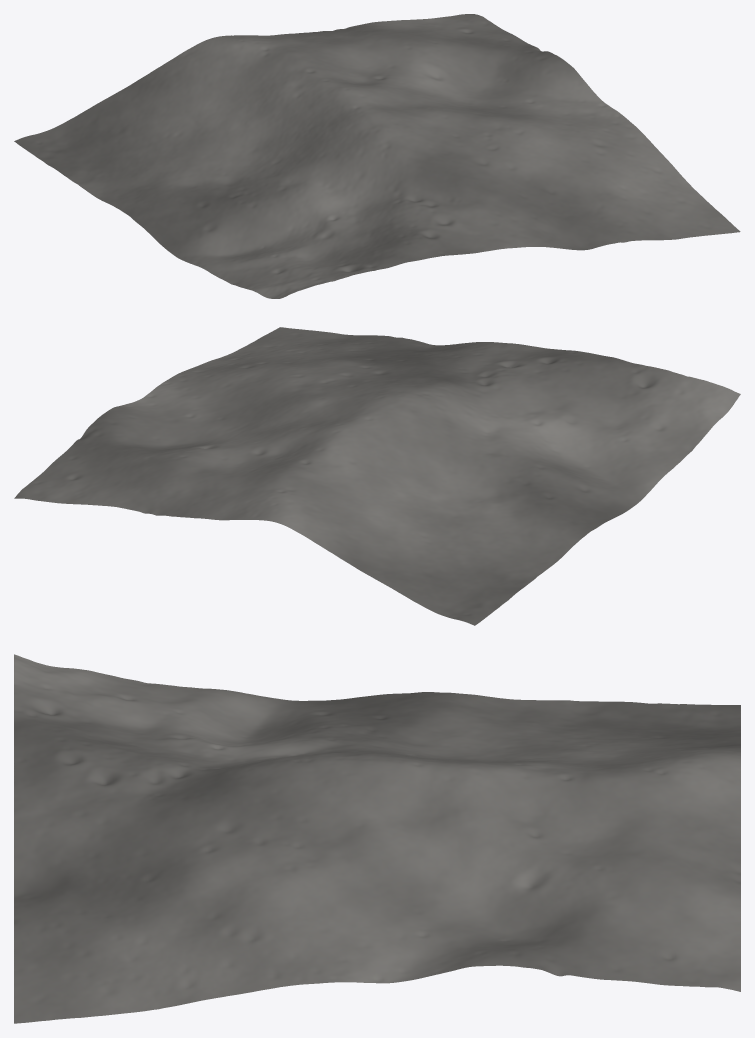
Rendered from de-gerlache-rim.glb.
The picture shows the model from 3 angles, top to bottom: view 1: azimuth 30°, elevation 25°; view 2: azimuth 150°, elevation 25°; view 3: azimuth 270°, elevation 25°; orthographic projection. The views are drawn at different scales.
Visible parts, largest first — view 1: Ground; view 2: Ground; view 3: Ground.
Boxes of the visible parts, box(x1,y1,x2,y2) form: Ground: box(14, 14, 740, 298); Ground: box(14, 327, 740, 625); Ground: box(14, 654, 740, 1023).
Size of the model in its own units: 20 by 3.15 by 20.
1 material, 1 textured.
